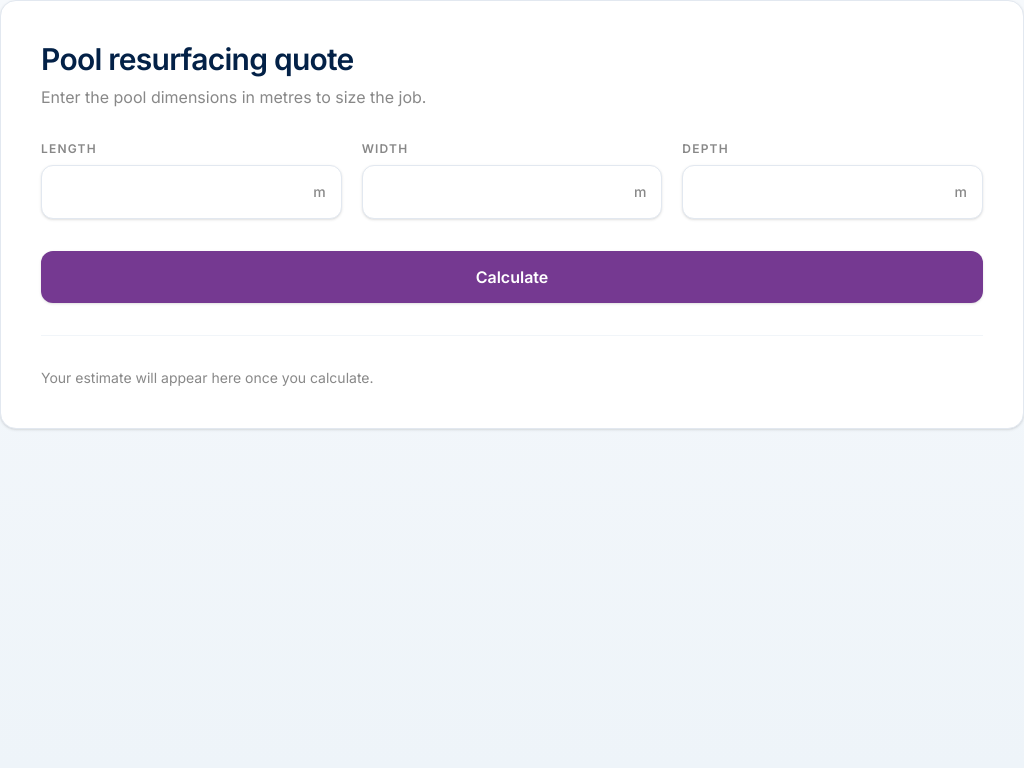
Test: Calculator › prices the pool using the stored base cost
The image size is (1024, 768).
In the number field labelled "Length": [191, 192] box [41, 165, 342, 219], type "10"
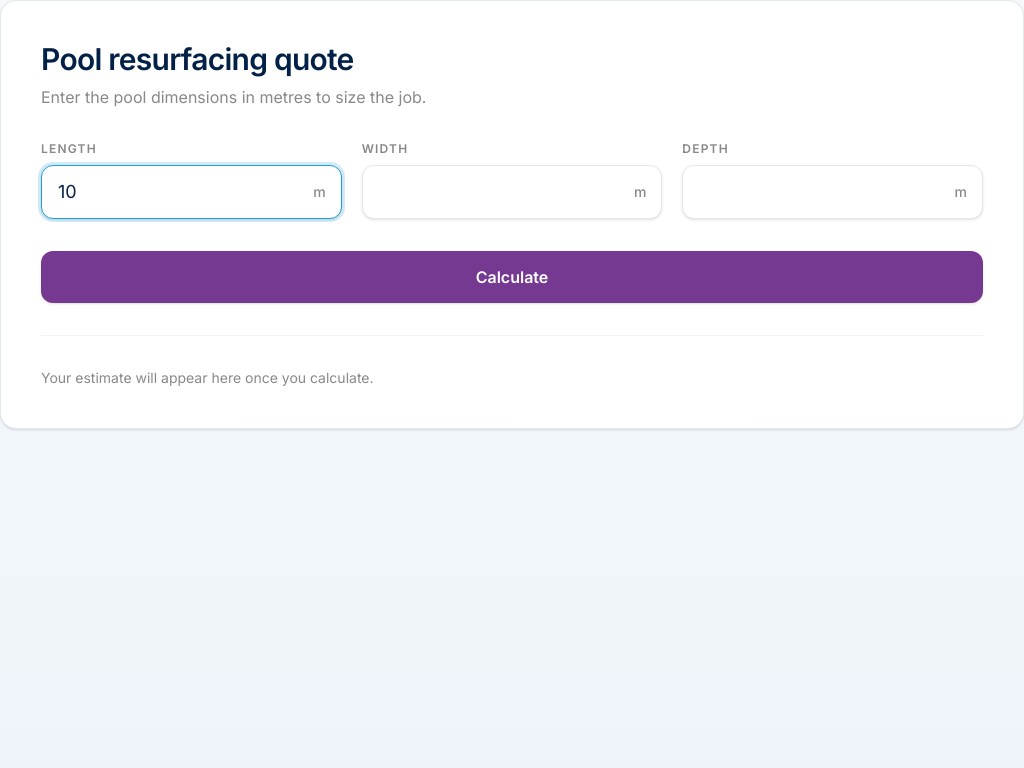
In the number field labelled "Width": [512, 192] box [362, 165, 662, 219], type "5"
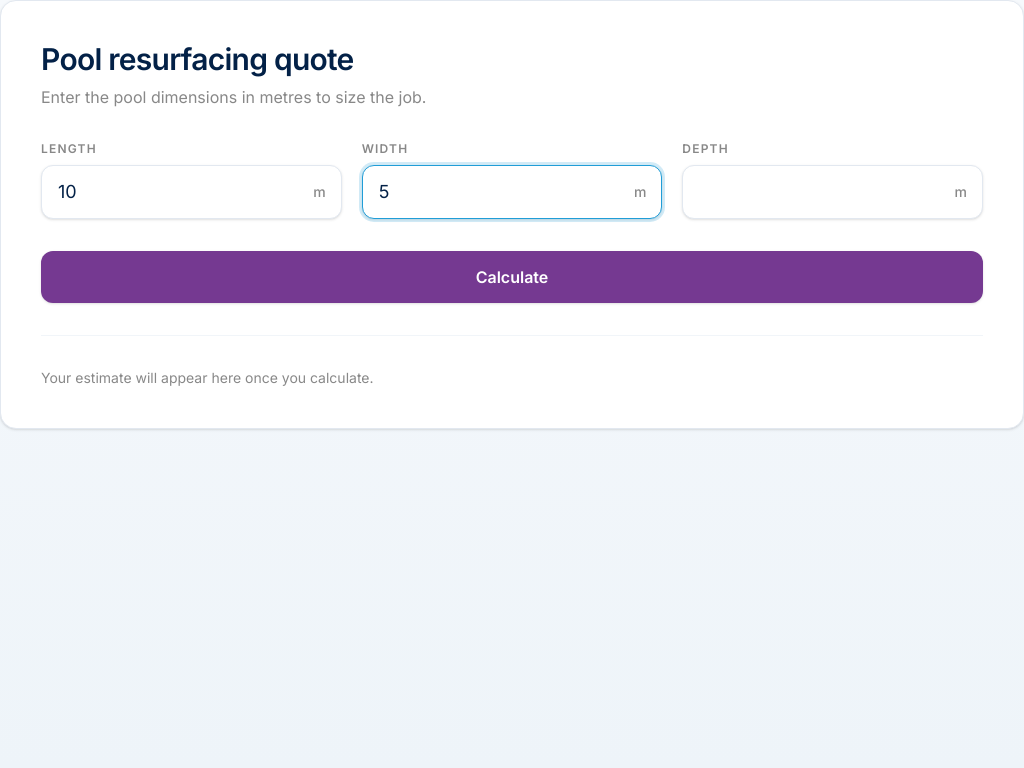
In the number field labelled "Depth": [833, 192] box [682, 165, 983, 219], type "2"
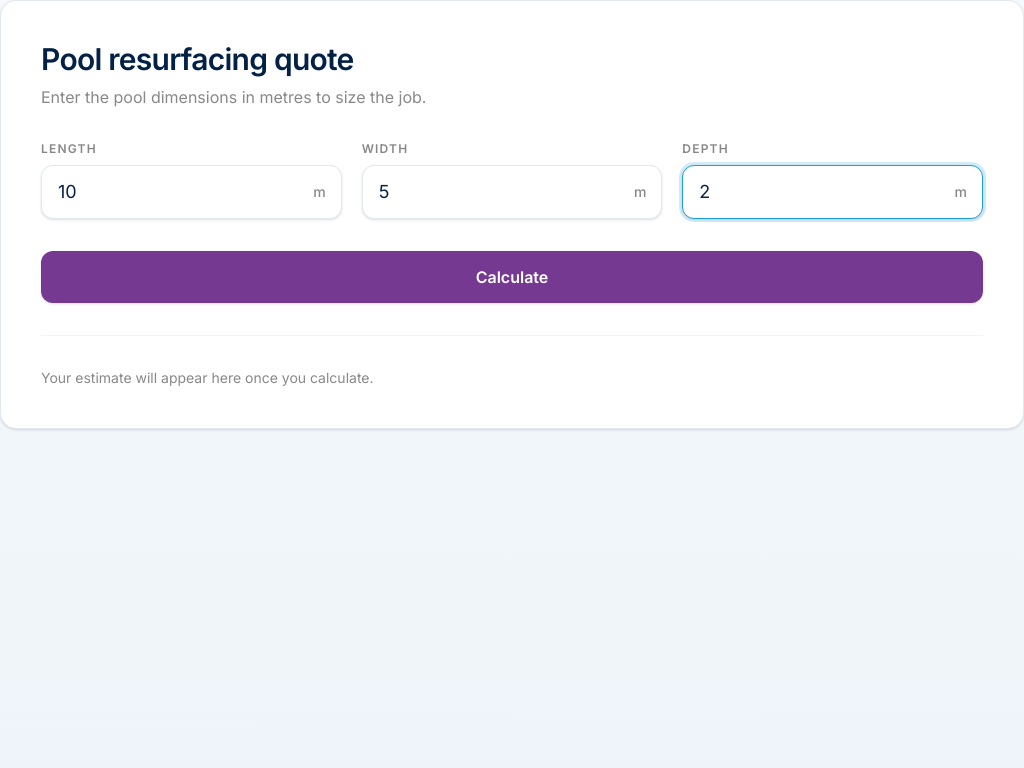
Click the button "Calculate": [512, 277] box [41, 251, 983, 303]
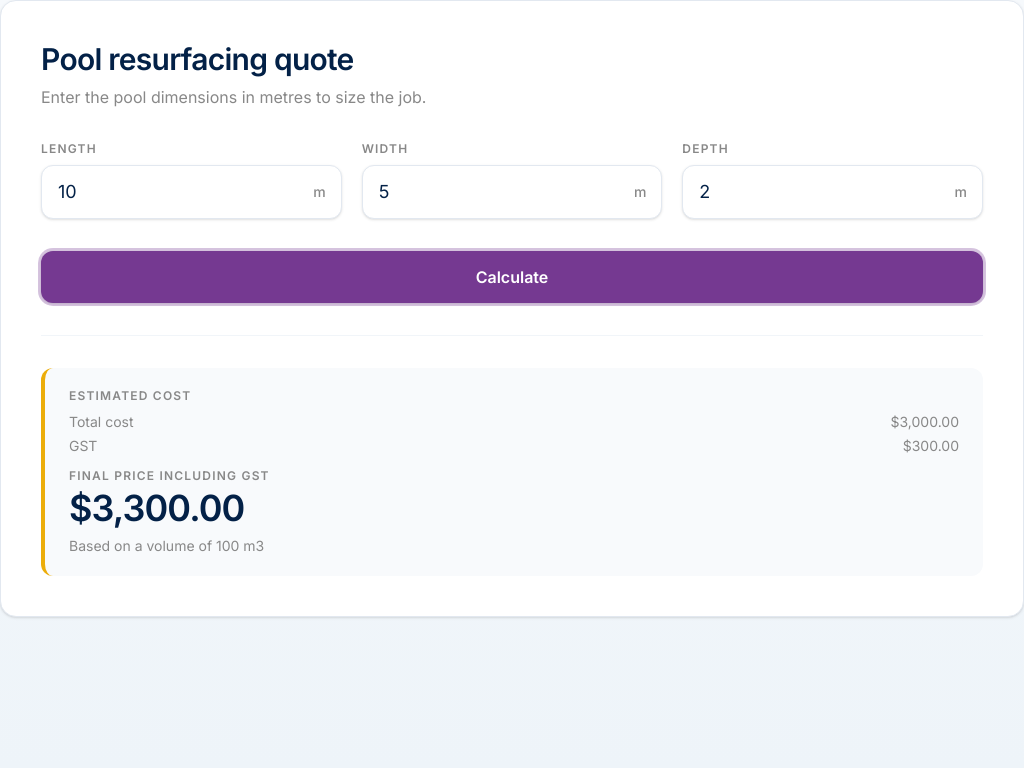
expect the text "$3,300.00" is shown: met, box [69, 486, 244, 530]
expect the text "Based on a volume of 100 m3" is shown: met, box [69, 537, 264, 554]
